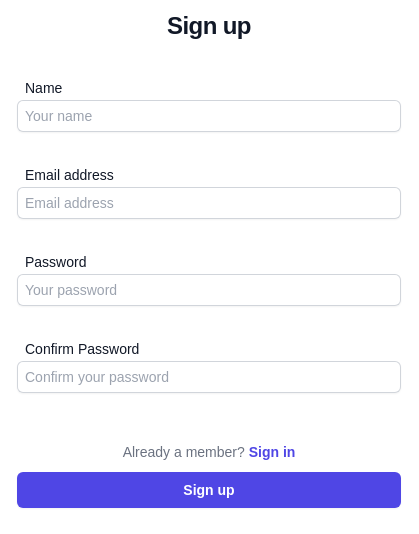
it: SignUpForm Component › should validate the name field
In the field named "name": (209, 116) top-left (17, 100), bottom-right (401, 132), type "Jo"
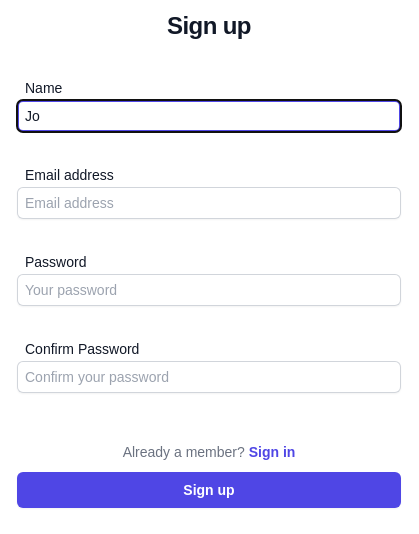
Click the submit button: (209, 490) top-left (17, 472), bottom-right (401, 508)
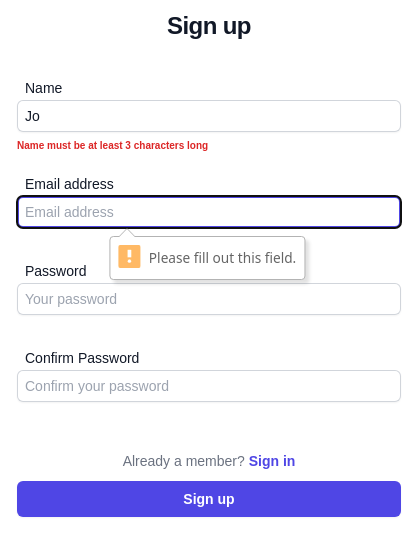
Expected: the text "Name must be at least 3 characters long" is shown, top-left (17, 140), bottom-right (208, 151)
